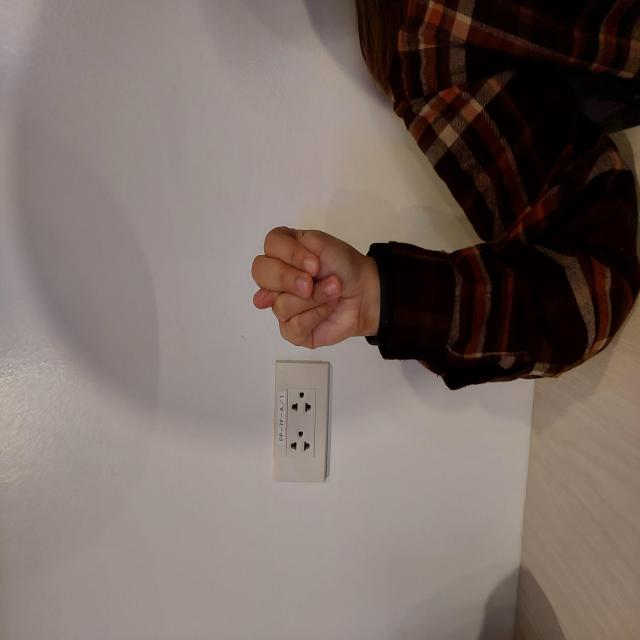N: (289, 247, 417, 370)
